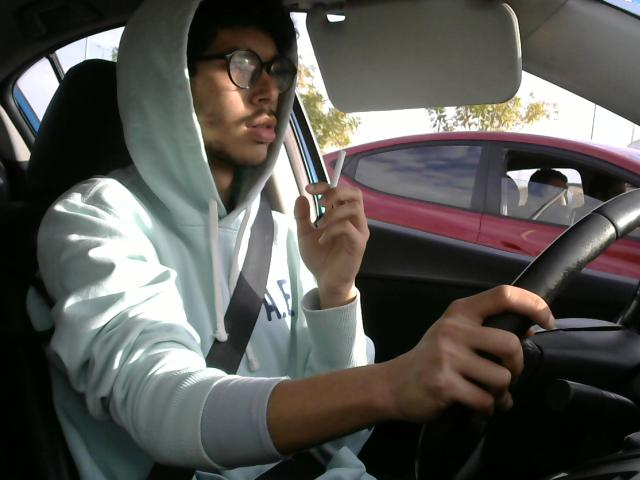Smoking: (315, 147, 351, 225)
